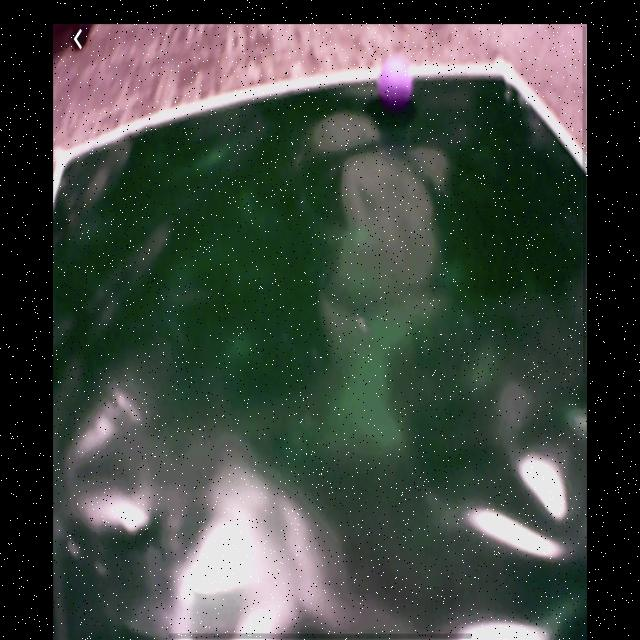ball: (375, 55, 415, 110)
